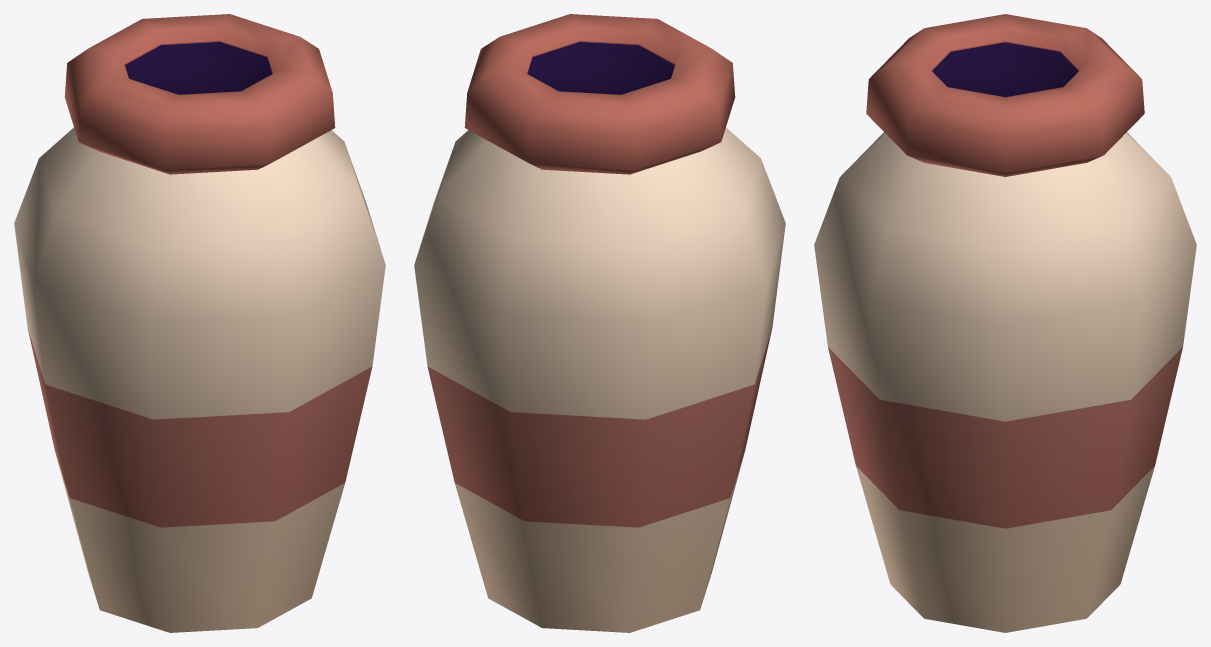
The model's file is Vase8.fbx.
3 renders of one model, left to right at view 1: azimuth 30°, elevation 25°; view 2: azimuth 150°, elevation 25°; view 3: azimuth 270°, elevation 25°, orthographic.
Parts seen in each view (by area): view 1: Vase8; view 2: Vase8; view 3: Vase8.
Part boxes in pixels (box(x1,y1,x2,y2)): Vase8: box(14, 14, 385, 632); Vase8: box(414, 14, 785, 632); Vase8: box(814, 14, 1196, 632).
Size of the model in its own units: 66.48 by 100 by 66.48.
